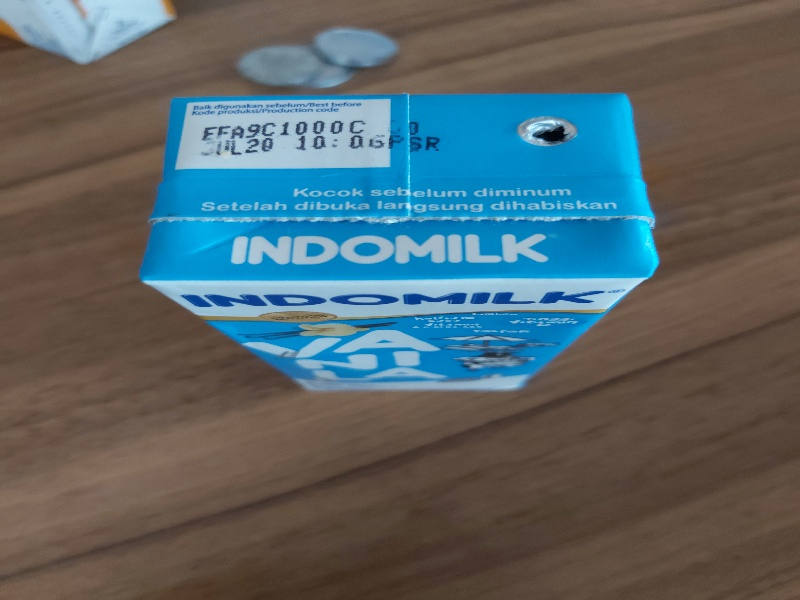vanilla: (138, 92, 664, 395)
